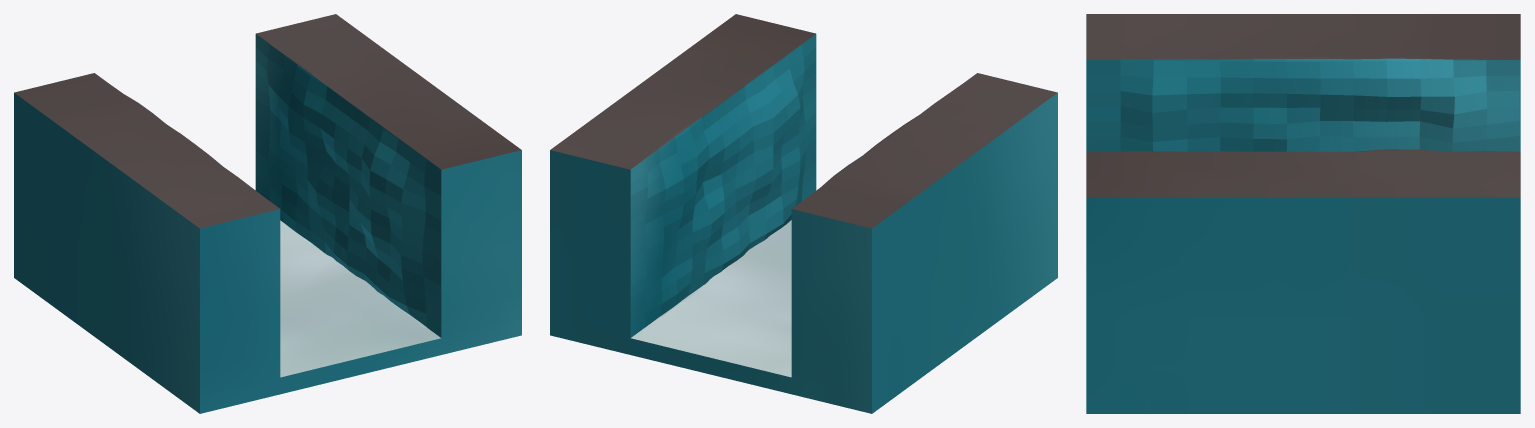
Rendered from Tile_Straight_Ice_v4.fbx.
The picture shows the model from 3 angles, left to right: view 1: azimuth 30°, elevation 25°; view 2: azimuth 150°, elevation 25°; view 3: azimuth 270°, elevation 25°; orthographic projection. The views are drawn at different scales.
Visible parts, largest first — view 1: TileStraight; view 2: TileStraight; view 3: TileStraight.
Boxes of the visible parts, x1,y1,x2,y2 form: TileStraight: [14, 14, 521, 413]; TileStraight: [550, 14, 1057, 413]; TileStraight: [1086, 14, 1520, 413].
Size of the model in its own units: 2000 by 1111 by 2000.
3 materials, 3 textured.
